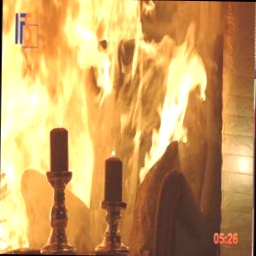fire: (2, 0, 209, 249)
